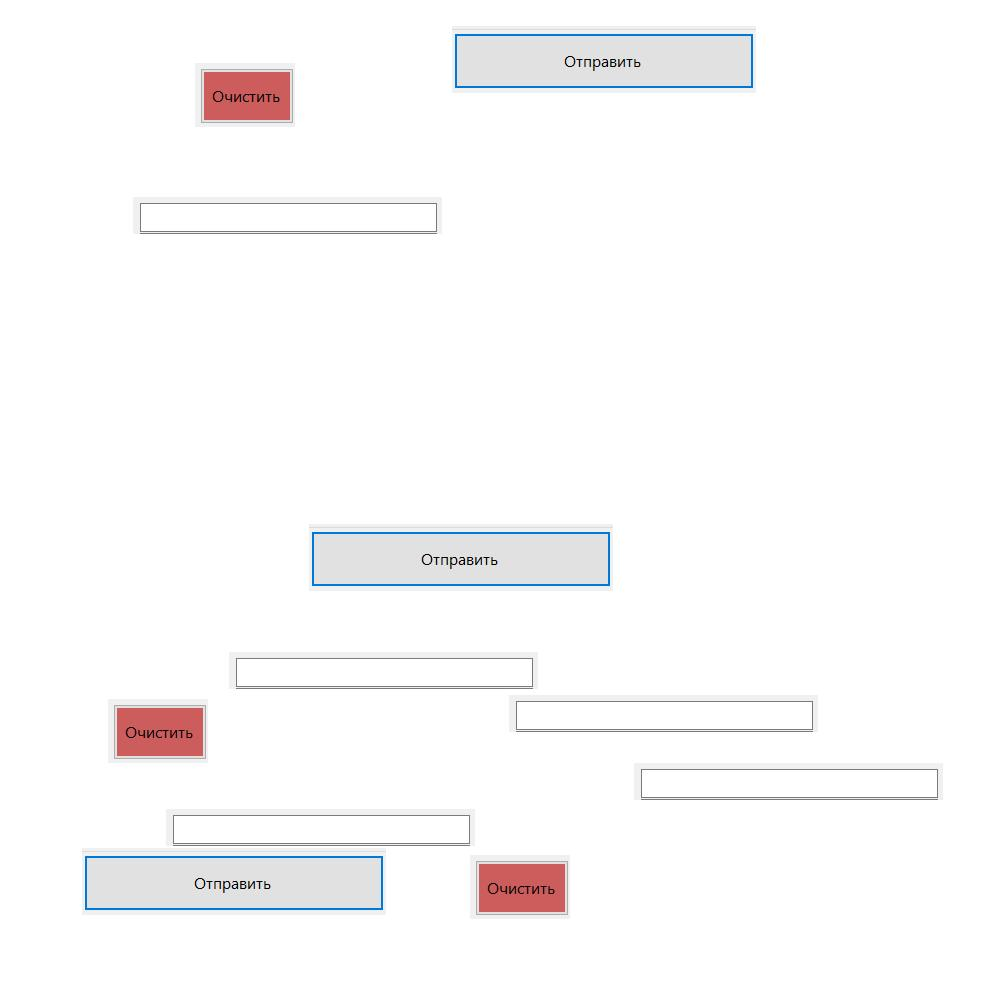Button: (452, 26, 756, 93), (309, 524, 613, 591), (82, 848, 386, 915), (195, 63, 295, 127), (470, 855, 570, 919), (108, 699, 208, 763)
EditText-: (133, 197, 442, 234), (634, 763, 943, 800), (166, 809, 475, 846), (509, 695, 818, 732), (229, 652, 538, 689)
